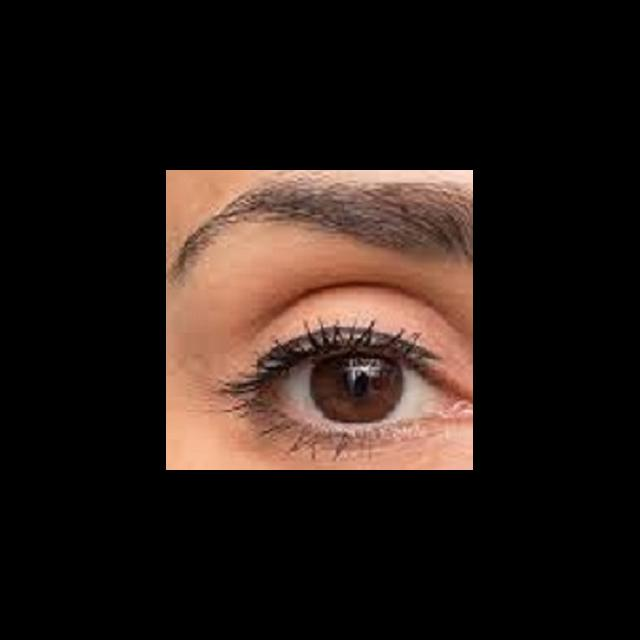eye: (265, 348, 447, 427)
iris: (311, 355, 405, 424)
